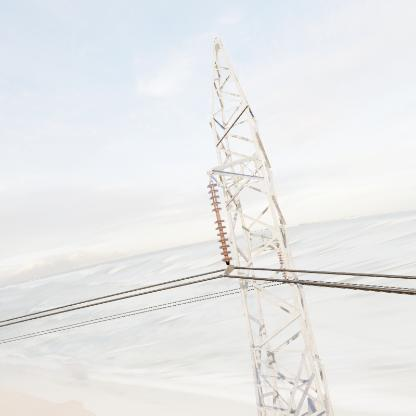insulator: (204, 180, 234, 267)
